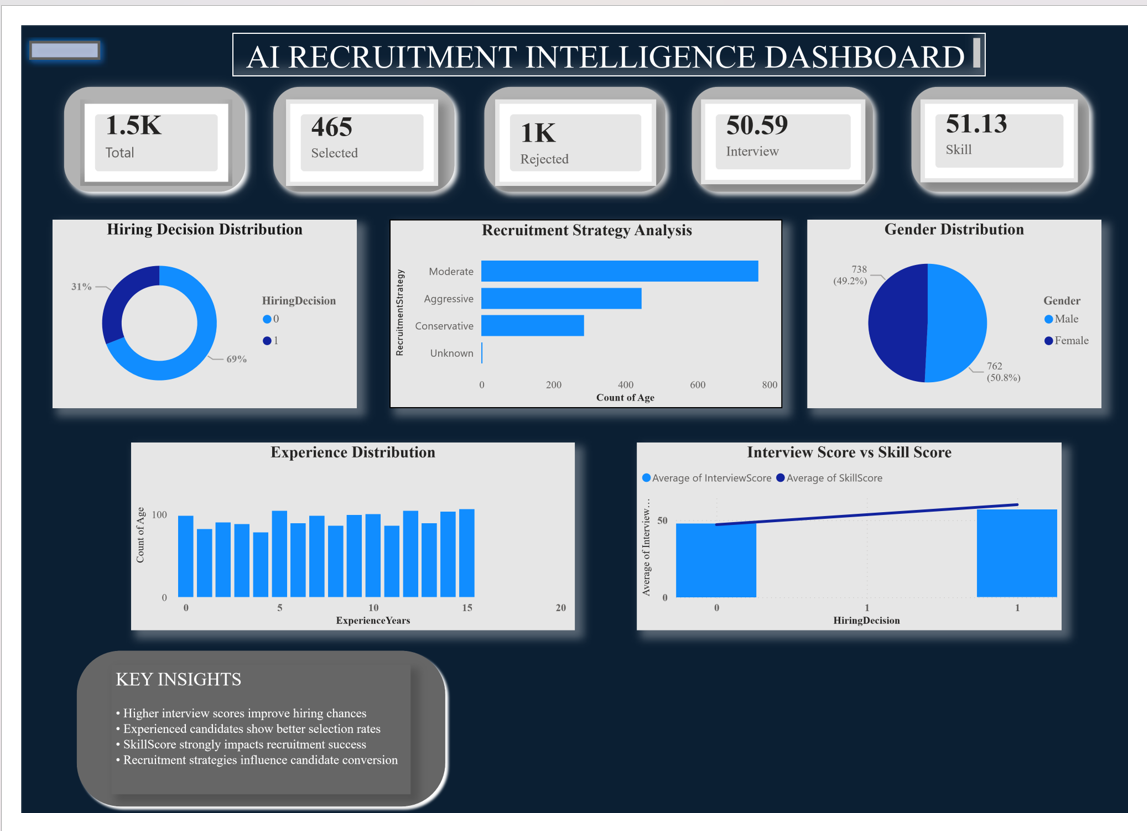

This screenshot's page, from the dashboard's own definition file:
{"tool":"powerbi","page":{"name":"Recruitment Overview","canvas":[1280,912],"ordinal":0},"visuals":[{"type":"shape","box":[1016,58,232,148],"z":0},{"type":"shape","box":[762,58,236,148],"z":1000},{"type":"shape","box":[522,58,236,148],"z":2000},{"type":"shape","box":[278,58,236,148],"z":3000},{"type":"shape","box":[36,58,236,148],"z":4000},{"type":"shape","box":[56,716,442,196],"z":5000},{"type":"textbox","box":[104,740,346,150],"z":6000},{"type":"textbox","box":[243.8,8.8,871.2,50],"z":7000},{"type":"cardVisual","fields":{"Data":["CountNonNull(cleaned_recruitment_data.Age)"]},"box":[68,86,176,100],"z":8000},{"type":"cardVisual","fields":{"Data":["cleaned_recruitment_data.Selected Candidates"]},"box":[306,86,176,100],"z":9000},{"type":"cardVisual","fields":{"Data":["cleaned_recruitment_data.Rejected Candidates"]},"box":[548,86,186,100],"z":10000},{"type":"cardVisual","fields":{"Data":["Avg(cleaned_recruitment_data.InterviewScore)"]},"box":[786,86,190,98],"z":11000},{"type":"cardVisual","fields":{"Data":["Avg(cleaned_recruitment_data.SkillScore)"]},"box":[1040,86,182,96],"z":12000},{"type":"donutChart","title":"Hiring Decision Distribution","fields":{"Category":["cleaned_recruitment_data.HiringDecision"],"Y":["CountNonNull(cleaned_recruitment_data.HiringDecision)"]},"box":[36.2,225,351.2,217.5],"z":13000},{"type":"pieChart","title":"Gender Distribution","fields":{"Category":["cleaned_recruitment_data.Gender"],"Y":["CountNonNull(cleaned_recruitment_data.Age)"]},"box":[908.8,225,340,217.5],"z":14000},{"type":"clusteredBarChart","title":"Recruitment Strategy Analysis","fields":{"Category":["cleaned_recruitment_data.RecruitmentStrategy"],"Y":["CountNonNull(cleaned_recruitment_data.Age)"]},"box":[426.2,225,453.8,217.5],"z":15000},{"type":"clusteredColumnChart","title":"Experience Distribution","fields":{"Category":["cleaned_recruitment_data.ExperienceYears"],"Y":["CountNonNull(cleaned_recruitment_data.Age)"]},"box":[126.7,483.3,513.3,216.7],"z":16000},{"type":"lineClusteredColumnComboChart","title":"Interview Score vs Skill Score","fields":{"Category":["cleaned_recruitment_data.HiringDecision"],"Y":["Avg(cleaned_recruitment_data.InterviewScore)"],"Y2":["Avg(cleaned_recruitment_data.SkillScore)"]},"box":[711.7,483.3,491.7,216.7],"z":17000},{"type":"actionButton","box":[0,9.3,100,39.5],"z":18000}]}

Visuals, with their boxes in screenshot pixels (x1, y1, x2, y2), scaled from the page's 1280x912 canvas onto the 1147x831 screenshot:
shape: x1=910 y1=53 x2=1118 y2=188
shape: x1=683 y1=53 x2=894 y2=188
shape: x1=468 y1=53 x2=679 y2=188
shape: x1=249 y1=53 x2=461 y2=188
shape: x1=32 y1=53 x2=244 y2=188
shape: x1=50 y1=652 x2=446 y2=830
textbox: x1=93 y1=674 x2=403 y2=811
textbox: x1=218 y1=8 x2=999 y2=54
cardVisual - CountNonNull(cleaned_recruitment_data.Age): x1=61 y1=78 x2=219 y2=169
cardVisual - cleaned_recruitment_data.Selected Candidates: x1=274 y1=78 x2=432 y2=169
cardVisual - cleaned_recruitment_data.Rejected Candidates: x1=491 y1=78 x2=658 y2=169
cardVisual - Avg(cleaned_recruitment_data.InterviewScore): x1=704 y1=78 x2=875 y2=168
cardVisual - Avg(cleaned_recruitment_data.SkillScore): x1=932 y1=78 x2=1095 y2=166
"Hiring Decision Distribution" donutChart: x1=32 y1=205 x2=347 y2=403
"Gender Distribution" pieChart: x1=814 y1=205 x2=1119 y2=403
"Recruitment Strategy Analysis" clusteredBarChart: x1=382 y1=205 x2=789 y2=403
"Experience Distribution" clusteredColumnChart: x1=114 y1=440 x2=574 y2=638
"Interview Score vs Skill Score" lineClusteredColumnComboChart: x1=638 y1=440 x2=1078 y2=638
actionButton: x1=0 y1=8 x2=90 y2=44
